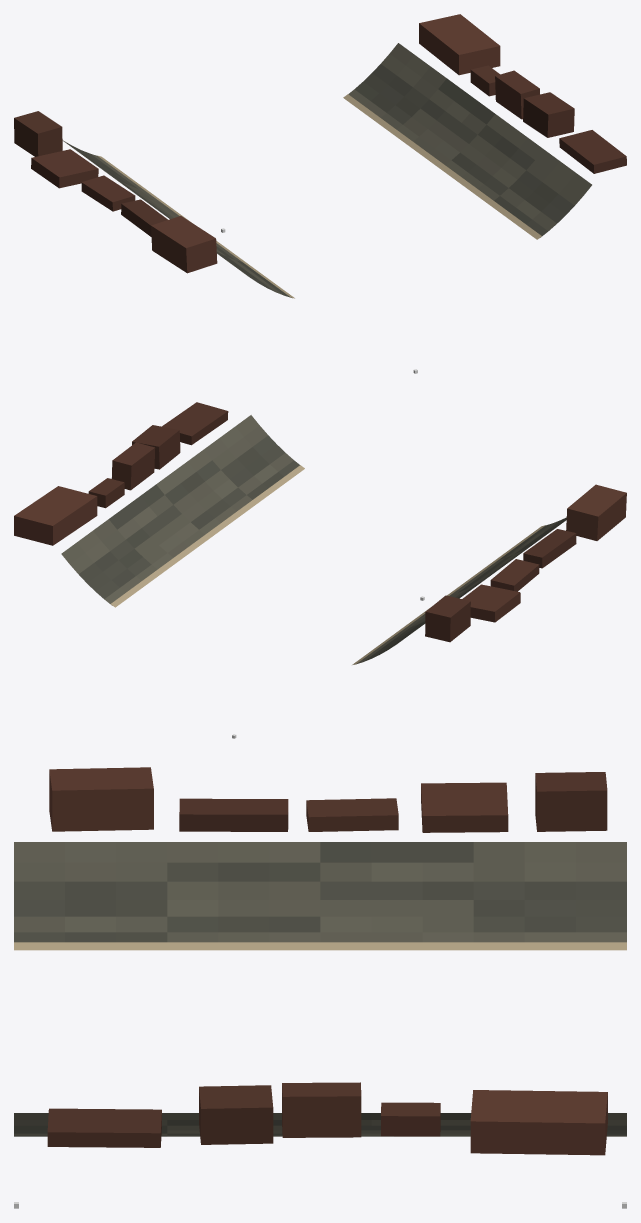
The model's file is lava_wash_short.glb.
The picture shows the model from 3 angles, top to bottom: view 1: azimuth 30°, elevation 25°; view 2: azimuth 150°, elevation 25°; view 3: azimuth 270°, elevation 25°; orthographic projection. The views are drawn at different scales.
Visible parts, largest first — view 1: lava_wash_short; view 2: lava_wash_short; view 3: lava_wash_short.
Boxes of the visible parts, bbox=[...] form: lava_wash_short: bbox=[14, 14, 626, 298]; lava_wash_short: bbox=[14, 402, 626, 664]; lava_wash_short: bbox=[14, 767, 626, 1155].
Size of the model in its own units: 32.87 by 11.75 by 24.
